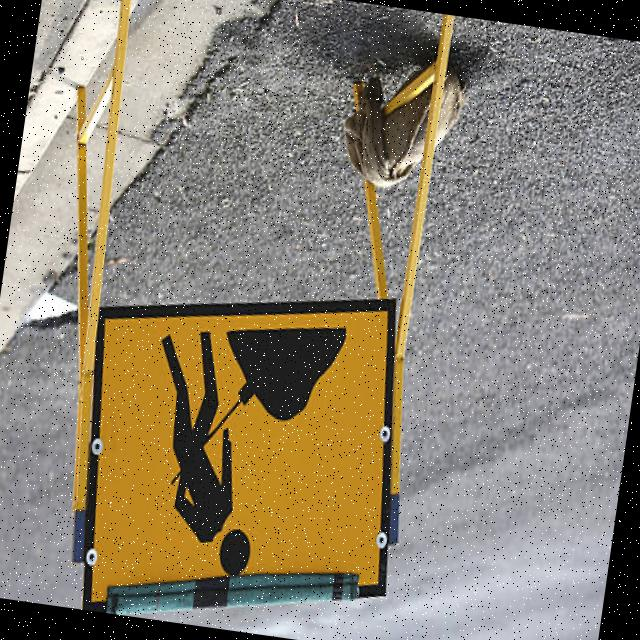road_work: (124, 296, 363, 602)
